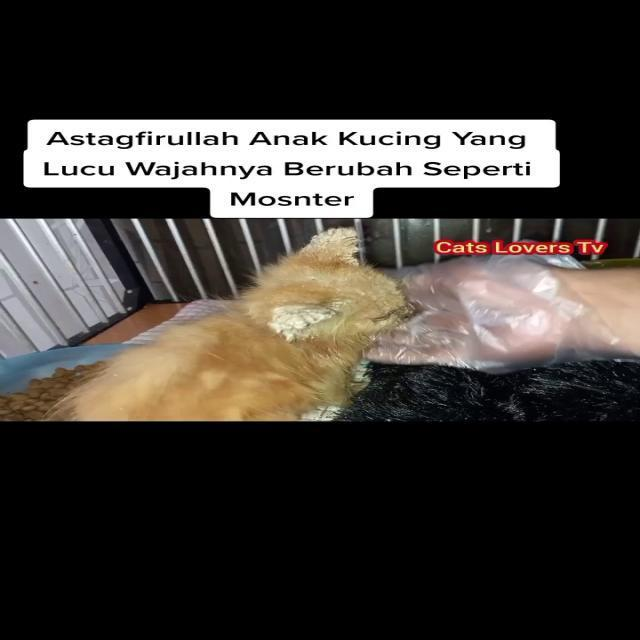ghe: (248, 298, 352, 374), (292, 225, 370, 291)
